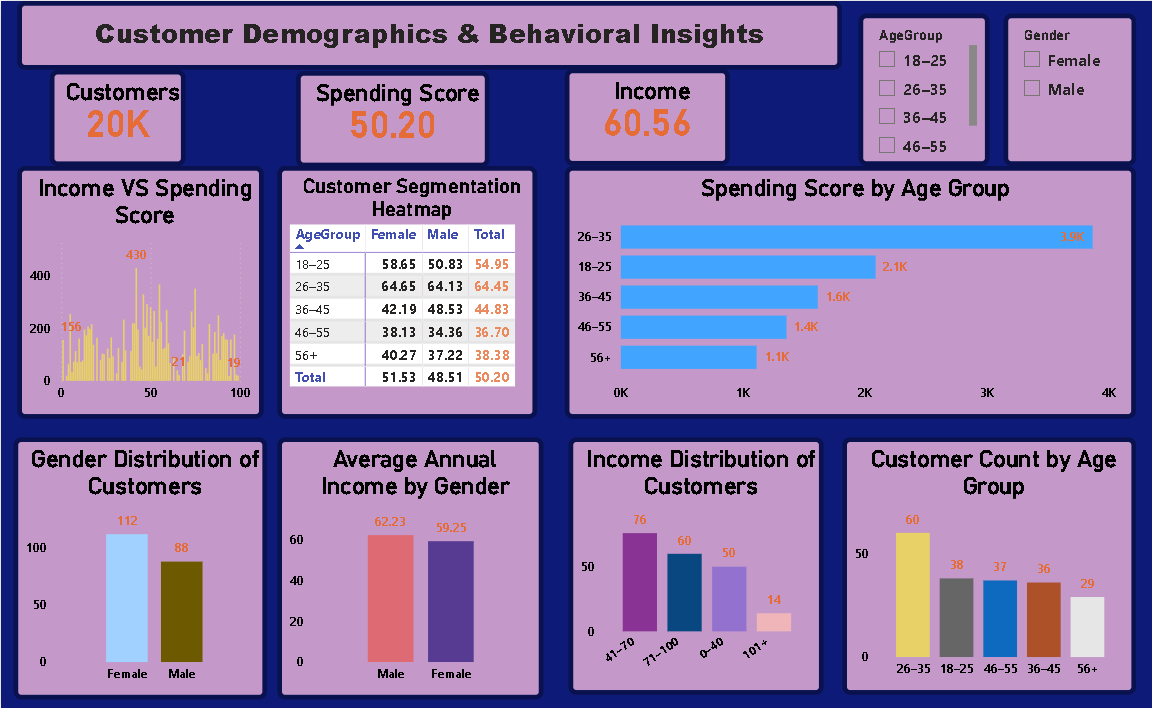

This screenshot's page, from the dashboard's own definition file:
{"tool":"powerbi","page":{"name":"Page 1","canvas":[1280,720],"ordinal":0},"visuals":[{"type":"columnChart","title":"Gender Distribution of Customers","fields":{"Category":["mall customers data.Gender"],"Y":["CountNonNull(mall customers data.CustomerID)"]},"box":[12.7,441.8,257,265.8],"z":0},{"type":"columnChart","title":"Customer Count by Age Group","fields":{"Category":["mall customers data.AgeGroup"],"Y":["CountNonNull(mall customers data.CustomerID)"]},"box":[851.9,441.8,297.5,260.8],"z":1},{"type":"columnChart","title":"Income Distribution of Customers","fields":{"Category":["mall customers data.Income Group"],"Y":["CountNonNull(mall customers data.CustomerID)"]},"box":[574.7,441.8,258.2,260.8],"z":2},{"type":"clusteredBarChart","title":"Spending Score by Age Group","fields":{"Category":["mall customers data.AgeGroup"],"Y":["Sum(mall customers data.Spending Score (1-100))"]},"box":[570.9,167.1,578.5,255.7],"z":3},{"type":"clusteredColumnChart","title":"Average Annual Income by Gender","fields":{"Category":["mall customers data.Gender"],"Y":["Avg(mall customers data.Annual Income (k$))"]},"box":[279.7,441.8,269.6,265.8],"z":4},{"type":"clusteredColumnChart","title":"Income VS Spending Score","fields":{"Category":["mall customers data.Spending Score (1-100)"],"Y":["Sum(mall customers data.Annual Income (k$))"]},"box":[16.5,167.1,249.4,255.7],"z":5},{"type":"pivotTable","title":"Customer Segmentation Heatmap","fields":{"Rows":["mall customers data.AgeGroup"],"Columns":["mall customers data.Gender"],"Values":["Avg(mall customers data.Spending Score (1-100))"]},"box":[279.7,167.1,263.3,255.7],"z":6},{"type":"textbox","box":[16.5,0,835.4,69.6],"z":7},{"type":"slicer","fields":{"Values":["mall customers data.AgeGroup"]},"box":[868.4,12.7,132.9,154.4],"z":8},{"type":"slicer","fields":{"Values":["mall customers data.Gender"]},"box":[1015.2,12.7,134.2,154.4],"z":9},{"type":"card","title":"Customers","fields":{"Values":["Sum(mall customers data.CustomerID)"]},"box":[49.4,69.6,138,97.5],"z":10},{"type":"card","title":"Spending Score","fields":{"Values":["Avg(mall customers data.Spending Score (1-100))"]},"box":[298.7,70.9,196.2,97.5],"z":11},{"type":"card","title":"Income","fields":{"Values":["Avg(mall customers data.Annual Income (k$))"]},"box":[570.9,68.4,167.1,98.7],"z":12}]}

Visuals, with their boxes on the page's 1280x720 design canvas (x1, y1, x2, y2). These are canvas units, not pixel positions in the 1152x708 screenshot, which may show the page scaled, cropped or inside an application window:
"Gender Distribution of Customers" columnChart: bbox(13, 442, 270, 708)
"Customer Count by Age Group" columnChart: bbox(852, 442, 1149, 703)
"Income Distribution of Customers" columnChart: bbox(575, 442, 833, 703)
"Spending Score by Age Group" clusteredBarChart: bbox(571, 167, 1149, 423)
"Average Annual Income by Gender" clusteredColumnChart: bbox(280, 442, 549, 708)
"Income VS Spending Score" clusteredColumnChart: bbox(16, 167, 266, 423)
"Customer Segmentation Heatmap" pivotTable: bbox(280, 167, 543, 423)
textbox: bbox(16, 0, 852, 70)
slicer - mall customers data.AgeGroup: bbox(868, 13, 1001, 167)
slicer - mall customers data.Gender: bbox(1015, 13, 1149, 167)
"Customers" card: bbox(49, 70, 187, 167)
"Spending Score" card: bbox(299, 71, 495, 168)
"Income" card: bbox(571, 68, 738, 167)
